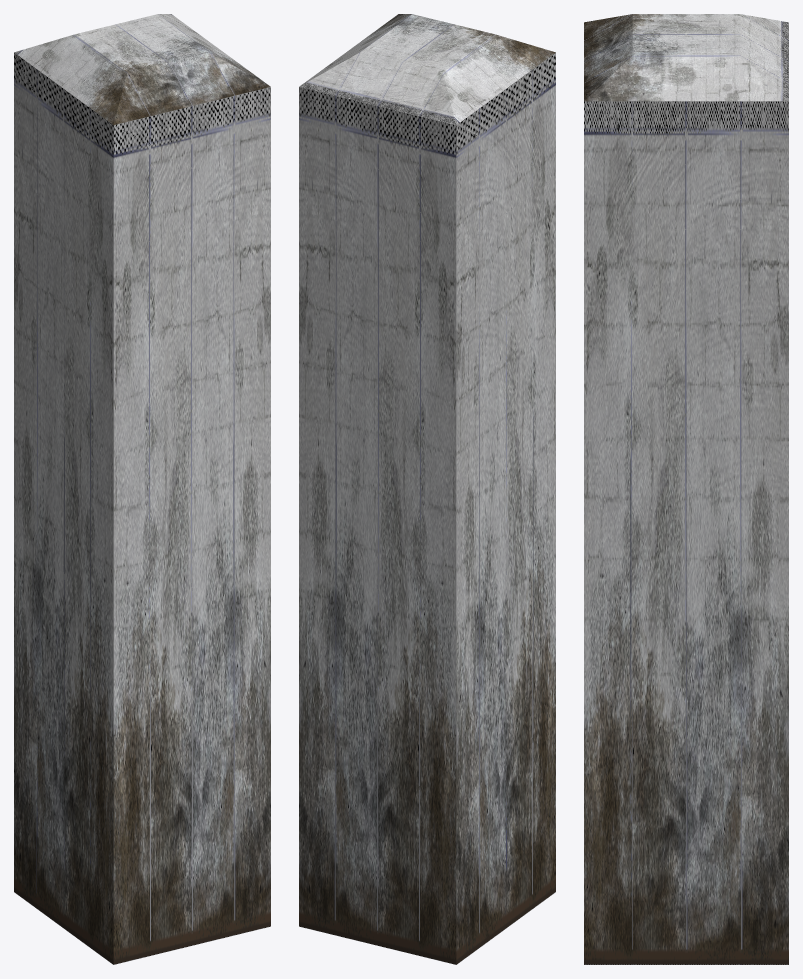
The model's file is Pillar.fbx.
The picture shows the model from 3 angles, left to right: view 1: azimuth 30°, elevation 25°; view 2: azimuth 150°, elevation 25°; view 3: azimuth 270°, elevation 25°; orthographic projection. The views are drawn at different scales.
Parts seen in each view (by area): view 1: pillar; view 2: pillar; view 3: pillar.
Boxes of the visible parts, bbox=[...] form: pillar: bbox=[14, 14, 270, 964]; pillar: bbox=[299, 14, 555, 964]; pillar: bbox=[584, 14, 788, 964].
Bounding box in the file's own units: 59.53 × 313 × 65.2.
1 material, 1 textured.
